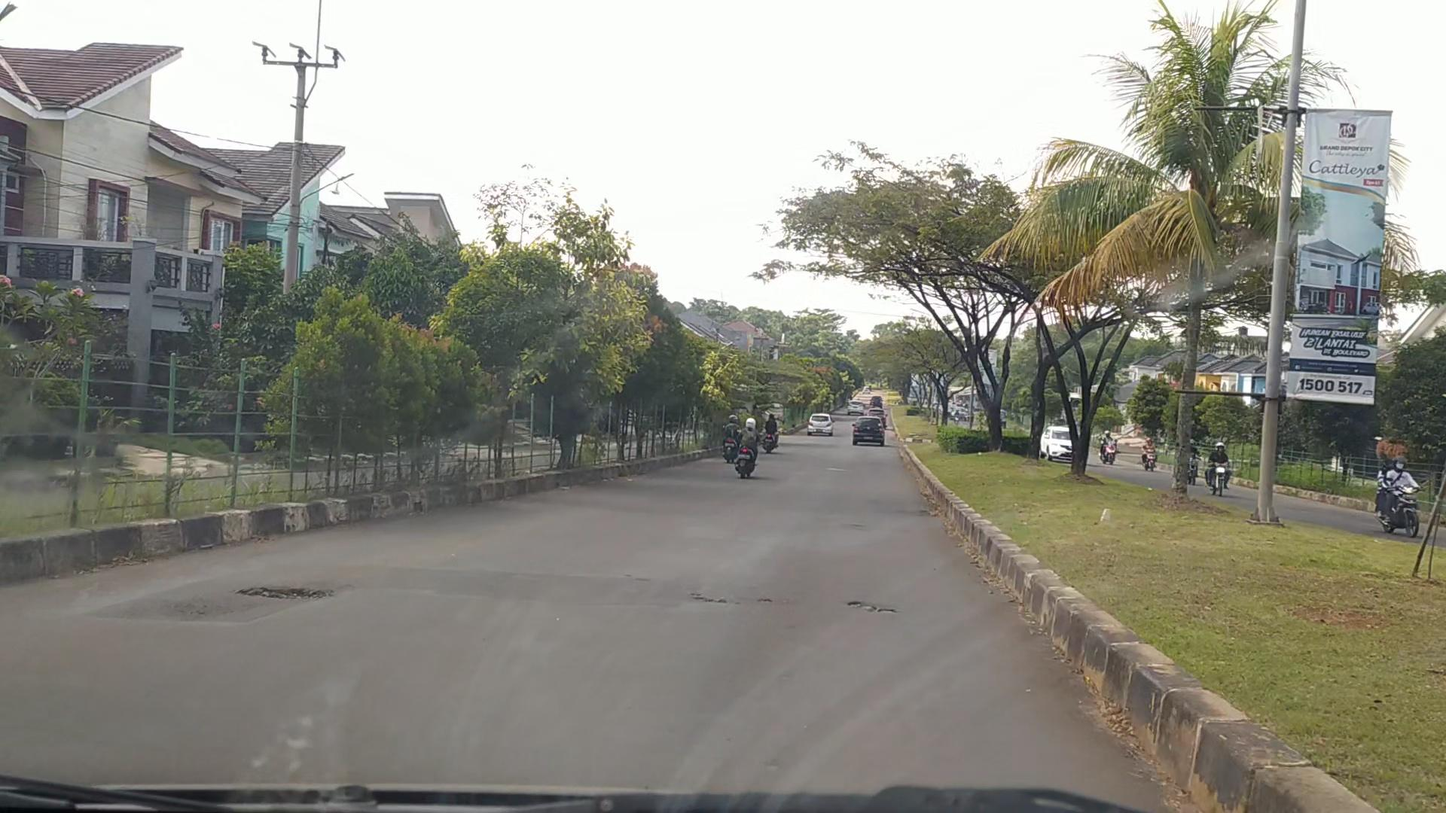pothole: (234, 584, 337, 603), (847, 600, 898, 615), (689, 591, 730, 605), (754, 598, 774, 603)
